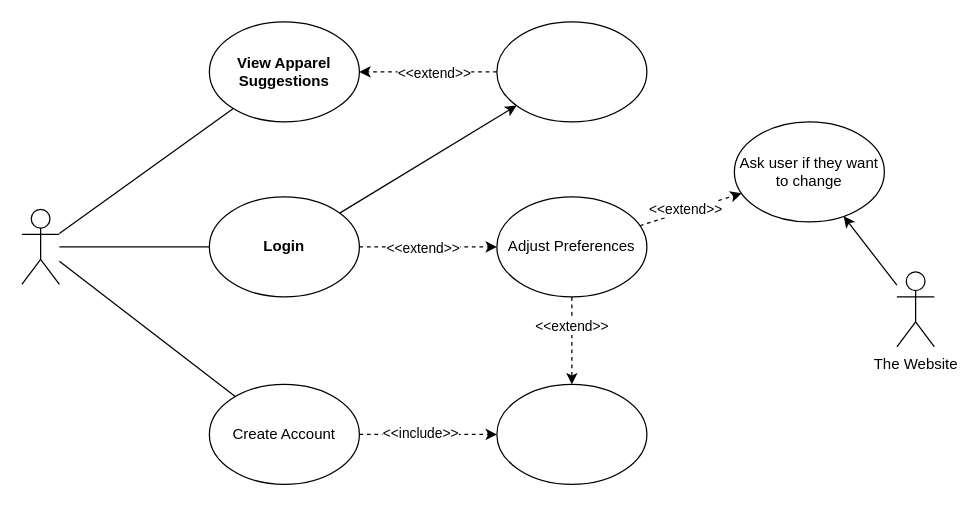
This 979x506 diagram has some shape labels left out. Each missing label, with the centre of its shape:
"Initial questionnaire on preferences" belongs at [571,433].
"User" belongs at [40,246].
"View weather and tailored suggestions" belongs at [571,71].
